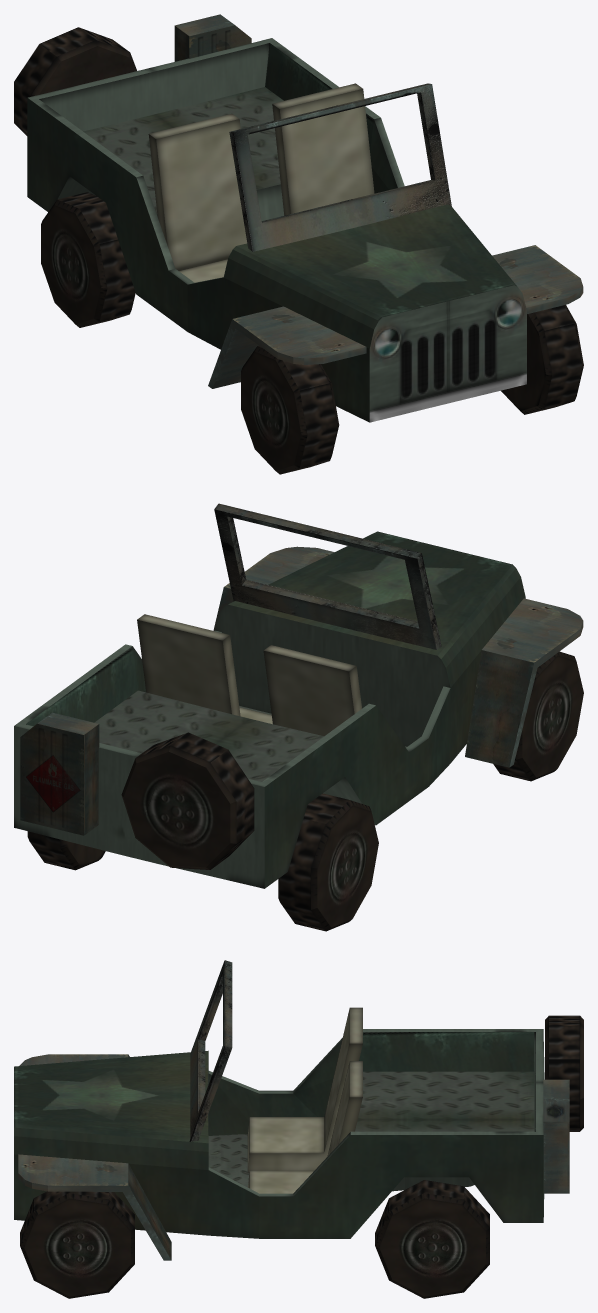
Rendered from jeep_main 1.FBX.
3 renders of one model, top to bottom at view 1: azimuth 30°, elevation 25°; view 2: azimuth 150°, elevation 25°; view 3: azimuth 270°, elevation 25°, orthographic. The views are drawn at different scales.
Visible parts, largest first — view 1: Object04, Object21, Object08, Object01, Object17, Object12, Object09, Object11, Object06, Object18, Object20, Object05; view 2: Object04, Object21, Object06, Object12, Object11, Object01, Object05, Object17, Object08, Object09, Object20, Object19; view 3: Object21, Object04, Object19, Object18, Object08, Object20, Object01, Object06, Object05, Object17, Object11.
Part boxes in pixels (left/top/right/bottom): Object04: left=27, top=68, right=449, bottom=422; Object21: left=149, top=38, right=526, bottom=403; Object08: left=148, top=113, right=247, bottom=282; Object01: left=229, top=83, right=451, bottom=251; Object17: left=272, top=83, right=374, bottom=215; Object12: left=41, top=192, right=135, bottom=327; Object09: left=241, top=345, right=339, bottom=474; Object11: left=208, top=306, right=366, bottom=388; Object06: left=14, top=27, right=136, bottom=135; Object18: left=501, top=305, right=583, bottom=414; Object20: left=492, top=245, right=583, bottom=313; Object05: left=174, top=14, right=251, bottom=61; Object04: left=138, top=548, right=525, bottom=888; Object21: left=14, top=531, right=444, bottom=859; Object06: left=121, top=732, right=254, bottom=869; Object12: left=278, top=793, right=378, bottom=931; Object11: left=465, top=598, right=583, bottom=767; Object01: left=214, top=503, right=441, bottom=649; Object05: left=20, top=712, right=99, bottom=835; Object17: left=137, top=614, right=272, bottom=724; Object08: left=263, top=645, right=361, bottom=736; Object09: left=493, top=651, right=583, bottom=781; Object20: left=213, top=546, right=334, bottom=630; Object19: left=27, top=831, right=105, bottom=870; Object21: left=14, top=1082, right=544, bottom=1238; Object04: left=14, top=1029, right=544, bottom=1181; Object19: left=375, top=1180, right=489, bottom=1298; Object18: left=20, top=1191, right=134, bottom=1298; Object08: left=247, top=1007, right=362, bottom=1172; Object20: left=18, top=1154, right=171, bottom=1260; Object01: left=189, top=960, right=232, bottom=1141; Object06: left=545, top=1015, right=583, bottom=1131; Object05: left=543, top=1079, right=569, bottom=1193; Object17: left=248, top=1061, right=362, bottom=1193; Object11: left=19, top=1054, right=129, bottom=1065.
Size of the model in its own units: 432 by 365 by 794.
7 materials, 7 textured.
